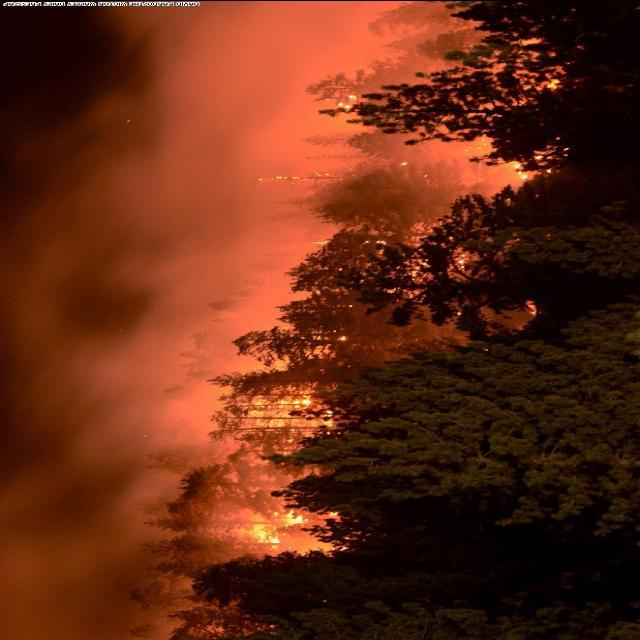Fire: (208, 344, 350, 554), (448, 34, 566, 188)
